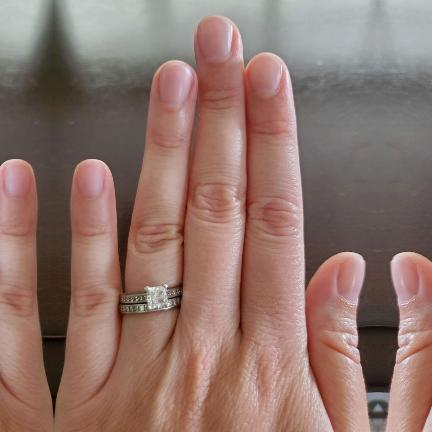Nail: (197, 16, 233, 63), (158, 63, 193, 107), (248, 53, 282, 97), (337, 260, 364, 304), (391, 260, 418, 304), (77, 163, 104, 198), (2, 163, 29, 198)
